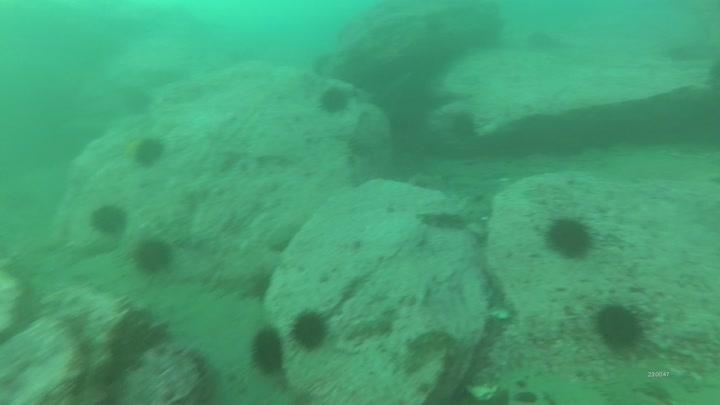echinus: (592, 301, 648, 353), (543, 214, 596, 261), (248, 324, 287, 377), (289, 308, 331, 352), (132, 236, 175, 276), (87, 201, 130, 238), (131, 134, 167, 170), (316, 84, 353, 117), (121, 85, 155, 118), (447, 109, 479, 141)
holothurian: (340, 311, 397, 343)
